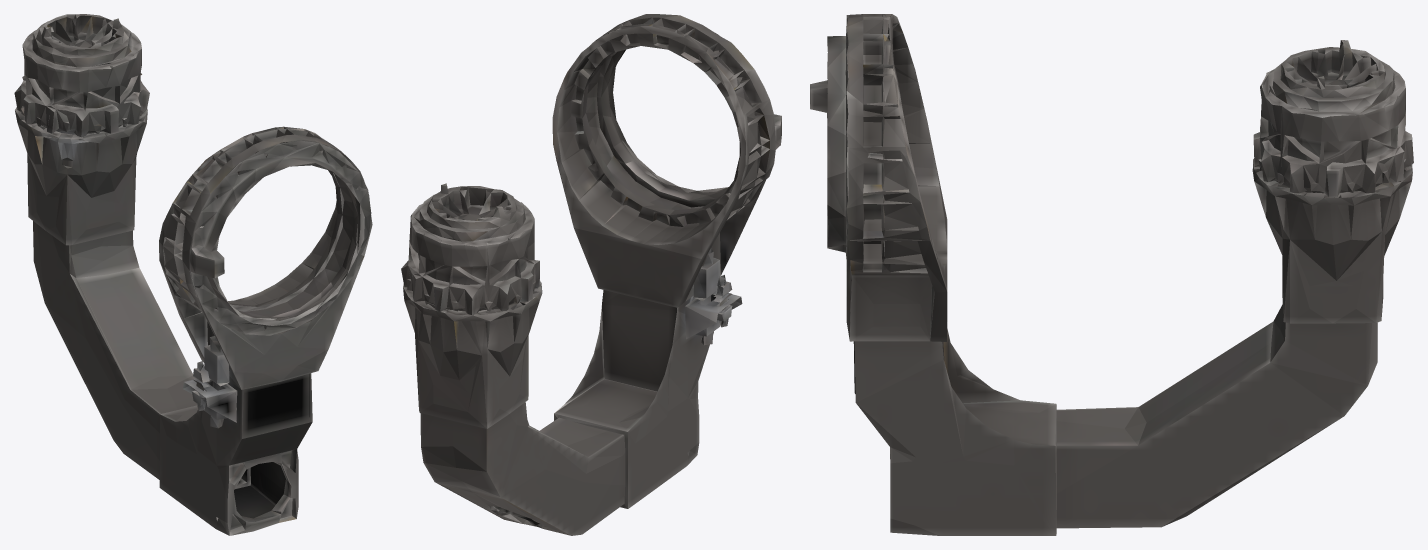
Rendered from Steer_LeftRear.gltf.
3 renders of one model, left to right at view 1: azimuth 30°, elevation 25°; view 2: azimuth 150°, elevation 25°; view 3: azimuth 270°, elevation 25°, orthographic. The views are drawn at different scales.
Parts seen in each view (by area): view 1: Mesh_0; view 2: Mesh_0; view 3: Mesh_0.
Boxes of the visible parts, box(x1,y1,x2,y2) form: Mesh_0: box(14, 14, 372, 535); Mesh_0: box(401, 14, 781, 535); Mesh_0: box(810, 14, 1413, 535).
Size of the model in its own units: 0.2089 by 0.4329 by 0.4854.
Materials: 1 (1 with a texture image).
